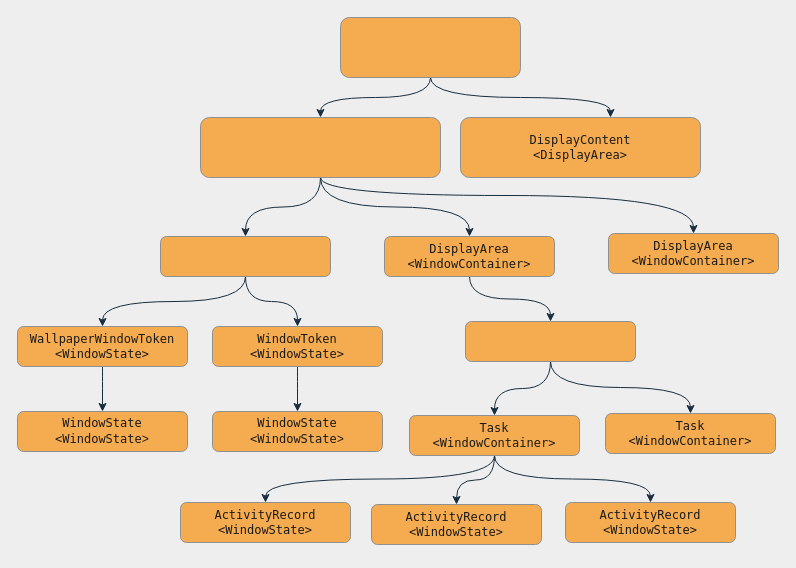
The diagram is 796 pixels wide and 568 high, and some of its shapes have lost their labels. Each missing label, with the centre of its shape:
"DisplayArea.Tokens <WindowToken>" goes at point 245,256.
"DisplayContent <<DisplayArea>>" goes at point 320,147.
"RootWindowContainer <DisplayContent>" goes at point 430,47.
"TaskDisplayArea <WindowContainer>" goes at point 550,341.
